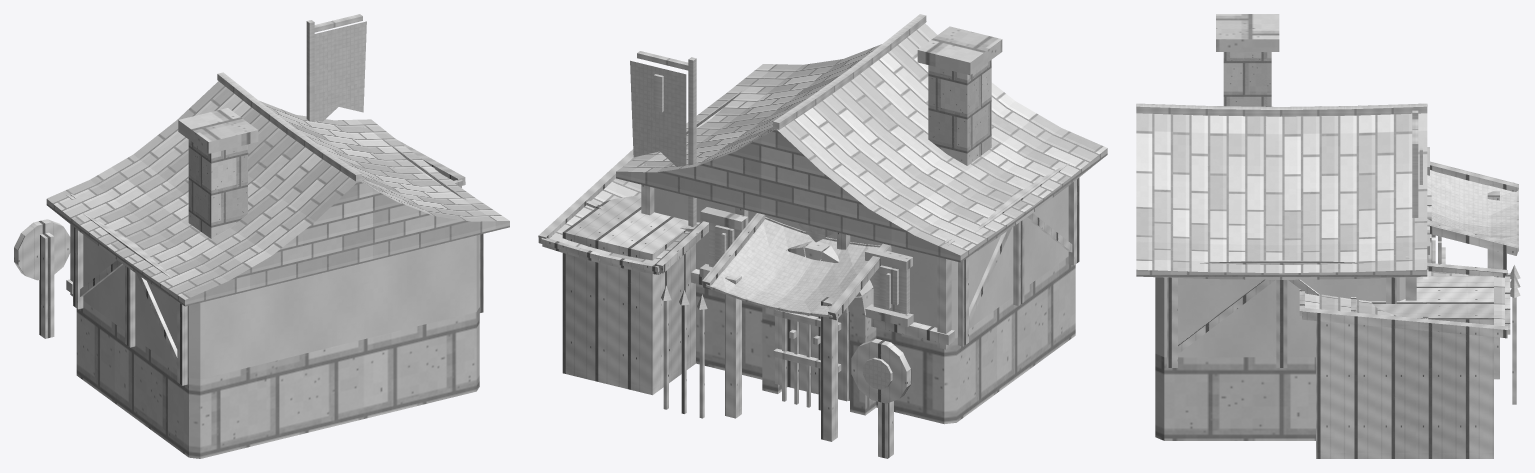
The model's file is Ashen_Barracks.obj.
3 views of the same model, side by side, from view 1: azimuth 30°, elevation 25°; view 2: azimuth 150°, elevation 25°; view 3: azimuth 270°, elevation 25° (orthographic). The views are drawn at different scales.
Parts seen in each view (by area): view 1: Ashen_Barracks; view 2: Ashen_Barracks; view 3: Ashen_Barracks.
Boxes of the visible parts, x1,y1,x2,y2 form: Ashen_Barracks: (14,14,509,458); Ashen_Barracks: (538,14,1107,458); Ashen_Barracks: (1136,14,1520,458).
Size of the model in its own units: 6.36 by 4.9 by 5.62.
Materials: 13 (13 with a texture image).
